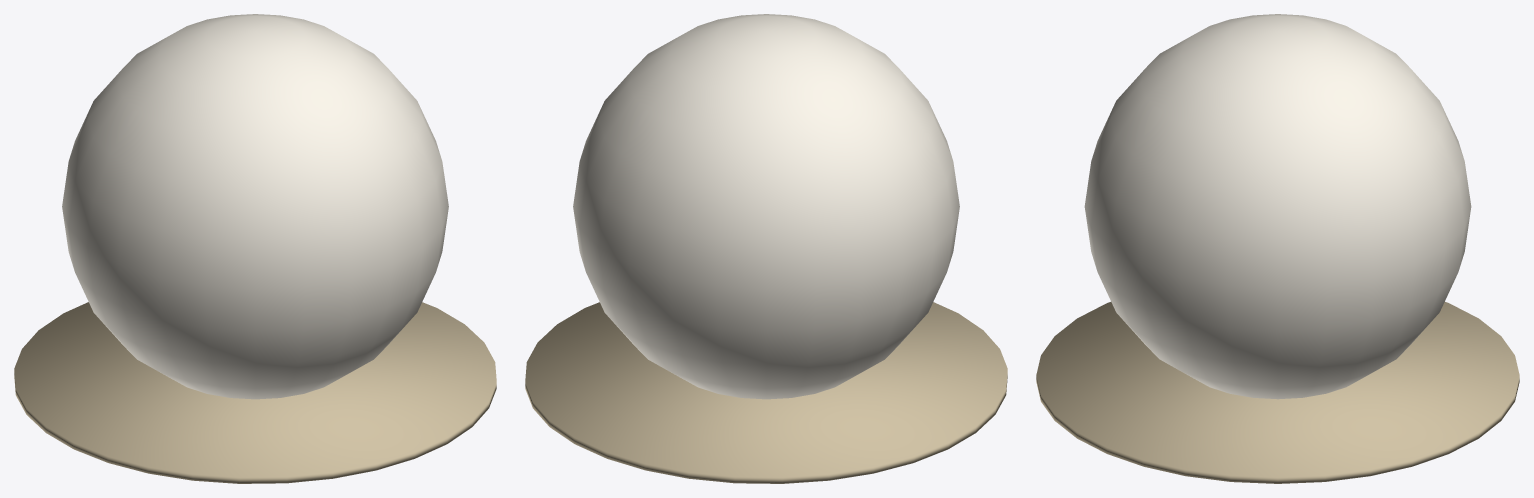
The model's file is pip.glb.
The picture shows the model from 3 angles, left to right: view 1: azimuth 30°, elevation 25°; view 2: azimuth 150°, elevation 25°; view 3: azimuth 270°, elevation 25°; orthographic projection.
Parts seen in each view (by area): view 1: Pip_Ball, Pip_Well; view 2: Pip_Ball, Pip_Well; view 3: Pip_Ball, Pip_Well.
Boxes of the visible parts, x1,y1,x2,y2 form: Pip_Ball: [62, 14, 448, 399]; Pip_Well: [14, 302, 496, 483]; Pip_Ball: [573, 14, 959, 399]; Pip_Well: [525, 302, 1007, 483]; Pip_Ball: [1084, 14, 1471, 399]; Pip_Well: [1036, 302, 1519, 483].
Size of the model in its own units: 0.2 by 0.16 by 0.2.
